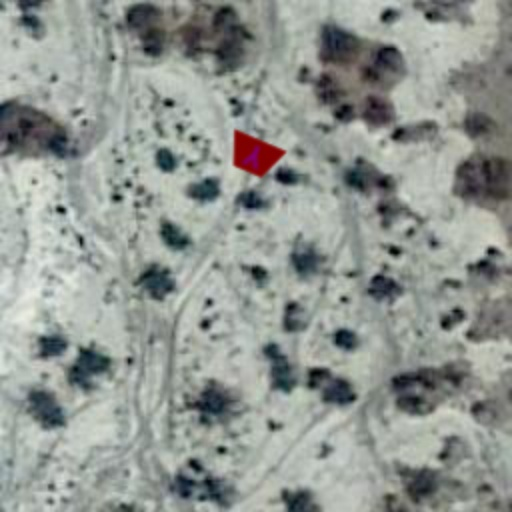trapezoid: (214, 116, 294, 196)
